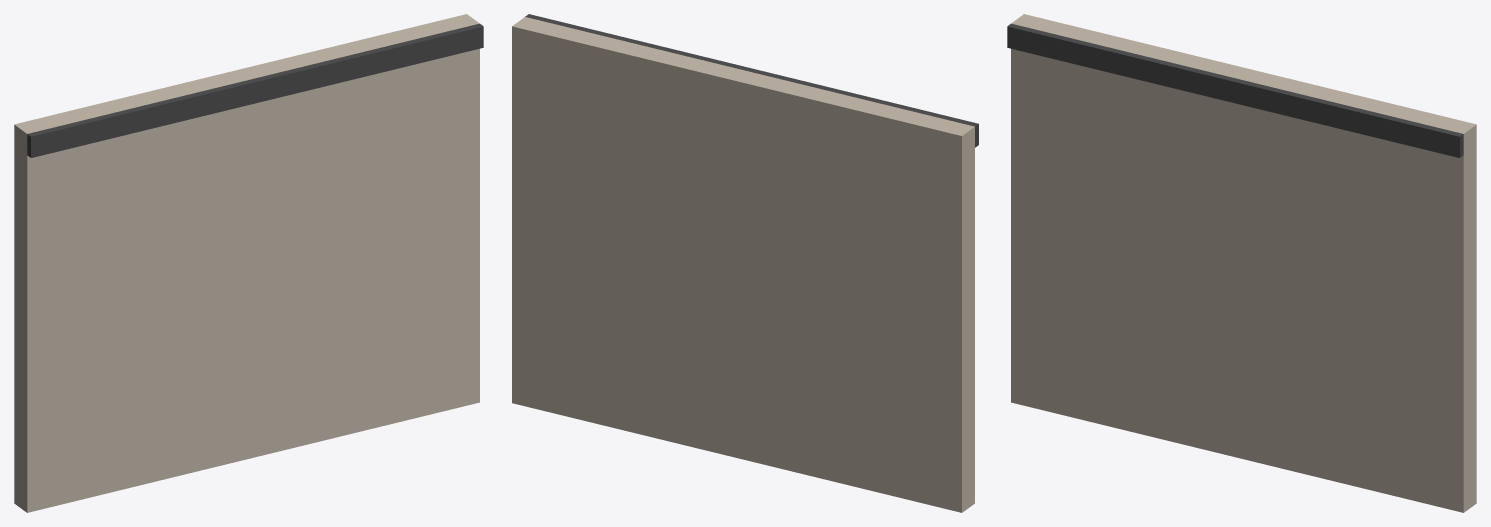
File: KIT_Wall_4m_Plain_Plaster.glb
The picture shows the model from 3 angles, left to right: view 1: azimuth 30°, elevation 25°; view 2: azimuth 150°, elevation 25°; view 3: azimuth 330°, elevation 25°; orthographic projection.
Parts seen in each view (by area): view 1: KIT_Wall_4m_Plain_Plaster; view 2: KIT_Wall_4m_Plain_Plaster; view 3: KIT_Wall_4m_Plain_Plaster.
Part boxes in pixels (x1,y1,x2,y2): KIT_Wall_4m_Plain_Plaster: (14, 14, 483, 512); KIT_Wall_4m_Plain_Plaster: (512, 14, 978, 512); KIT_Wall_4m_Plain_Plaster: (1007, 14, 1476, 512).
Bounding box in the file's own units: 4 × 3.2 × 0.26.
